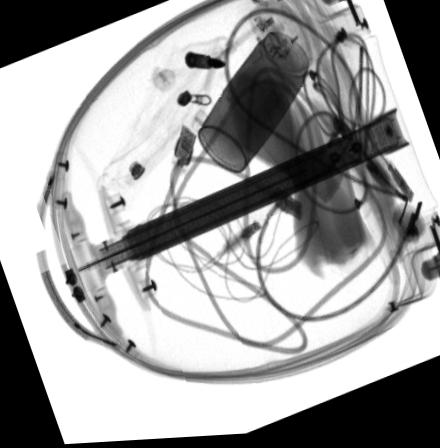Bullet: (184, 53, 226, 70)
